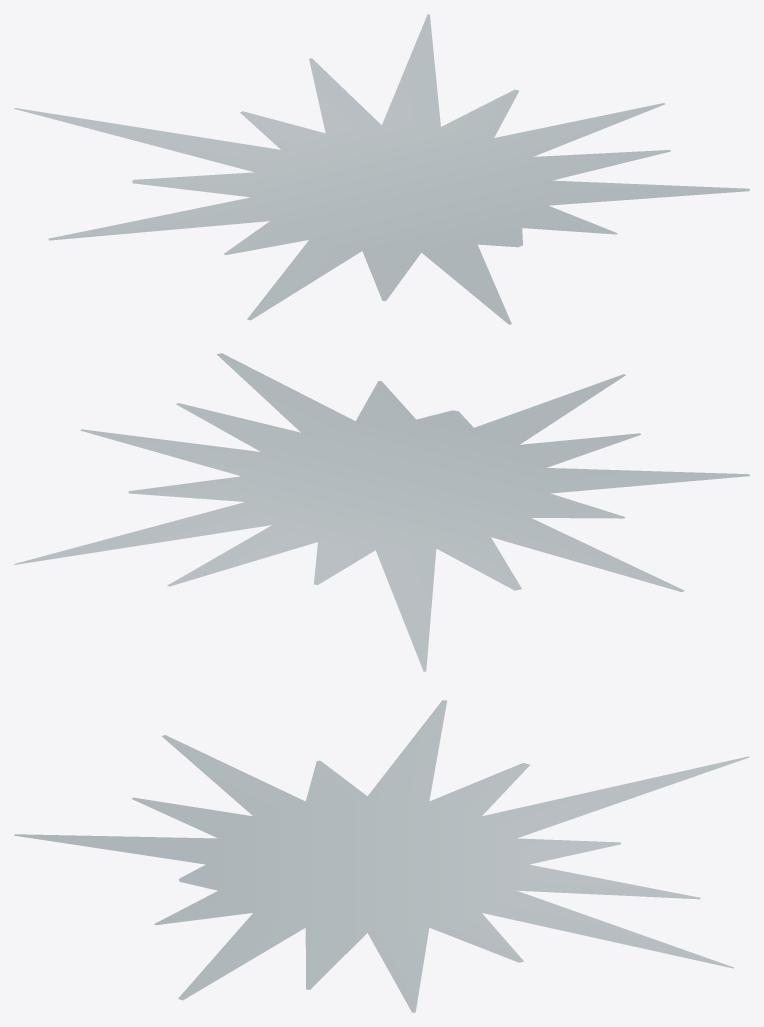
File: Glow.glb
3 renders of one model, top to bottom at view 1: azimuth 30°, elevation 25°; view 2: azimuth 150°, elevation 25°; view 3: azimuth 270°, elevation 25°, orthographic. The views are drawn at different scales.
Visible parts, largest first — view 1: Cylinder; view 2: Cylinder; view 3: Cylinder.
Part boxes in pixels (x1,y1,x2,y2): Cylinder: (14,14,749,324); Cylinder: (14,353,749,671); Cylinder: (14,700,749,1012).
Bounding box in the file's own units: 2.85 × 0.000194 × 2.84.
1 material, 1 textured.
